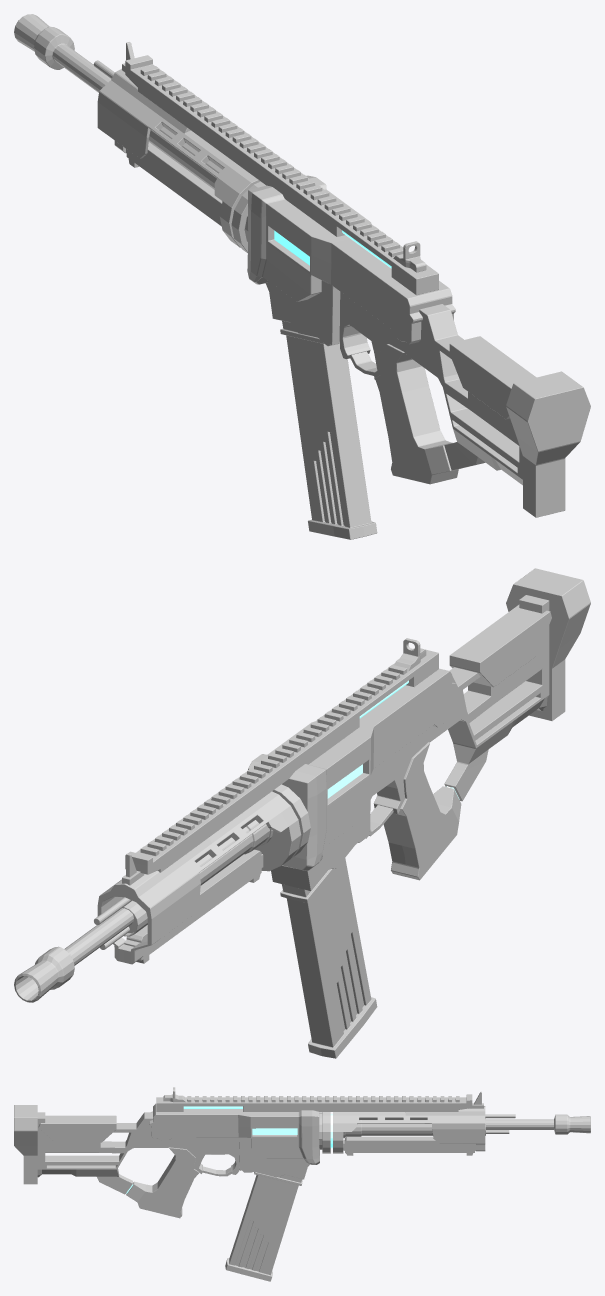
File: SCIFIar.fbx
The picture shows the model from 3 angles, top to bottom: view 1: azimuth 30°, elevation 25°; view 2: azimuth 150°, elevation 25°; view 3: azimuth 270°, elevation 25°; orthographic projection. The views are drawn at different scales.
Visible parts, largest first — view 1: Cube.002; view 2: Cube.002; view 3: Cube.002.
Boxes of the visible parts, x1,y1,x2,y2 form: Cube.002: (14, 14, 590, 539); Cube.002: (14, 568, 590, 1058); Cube.002: (14, 1087, 590, 1281).
Size of the model in its own units: 32.64 by 151 by 416.
